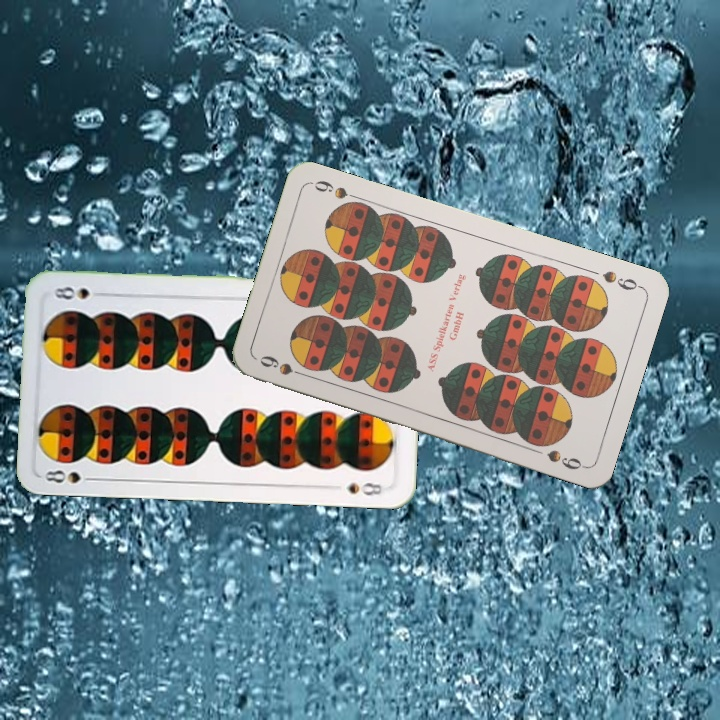S8: (41, 466, 100, 486)
S9: (255, 351, 312, 380), (598, 266, 644, 293)
